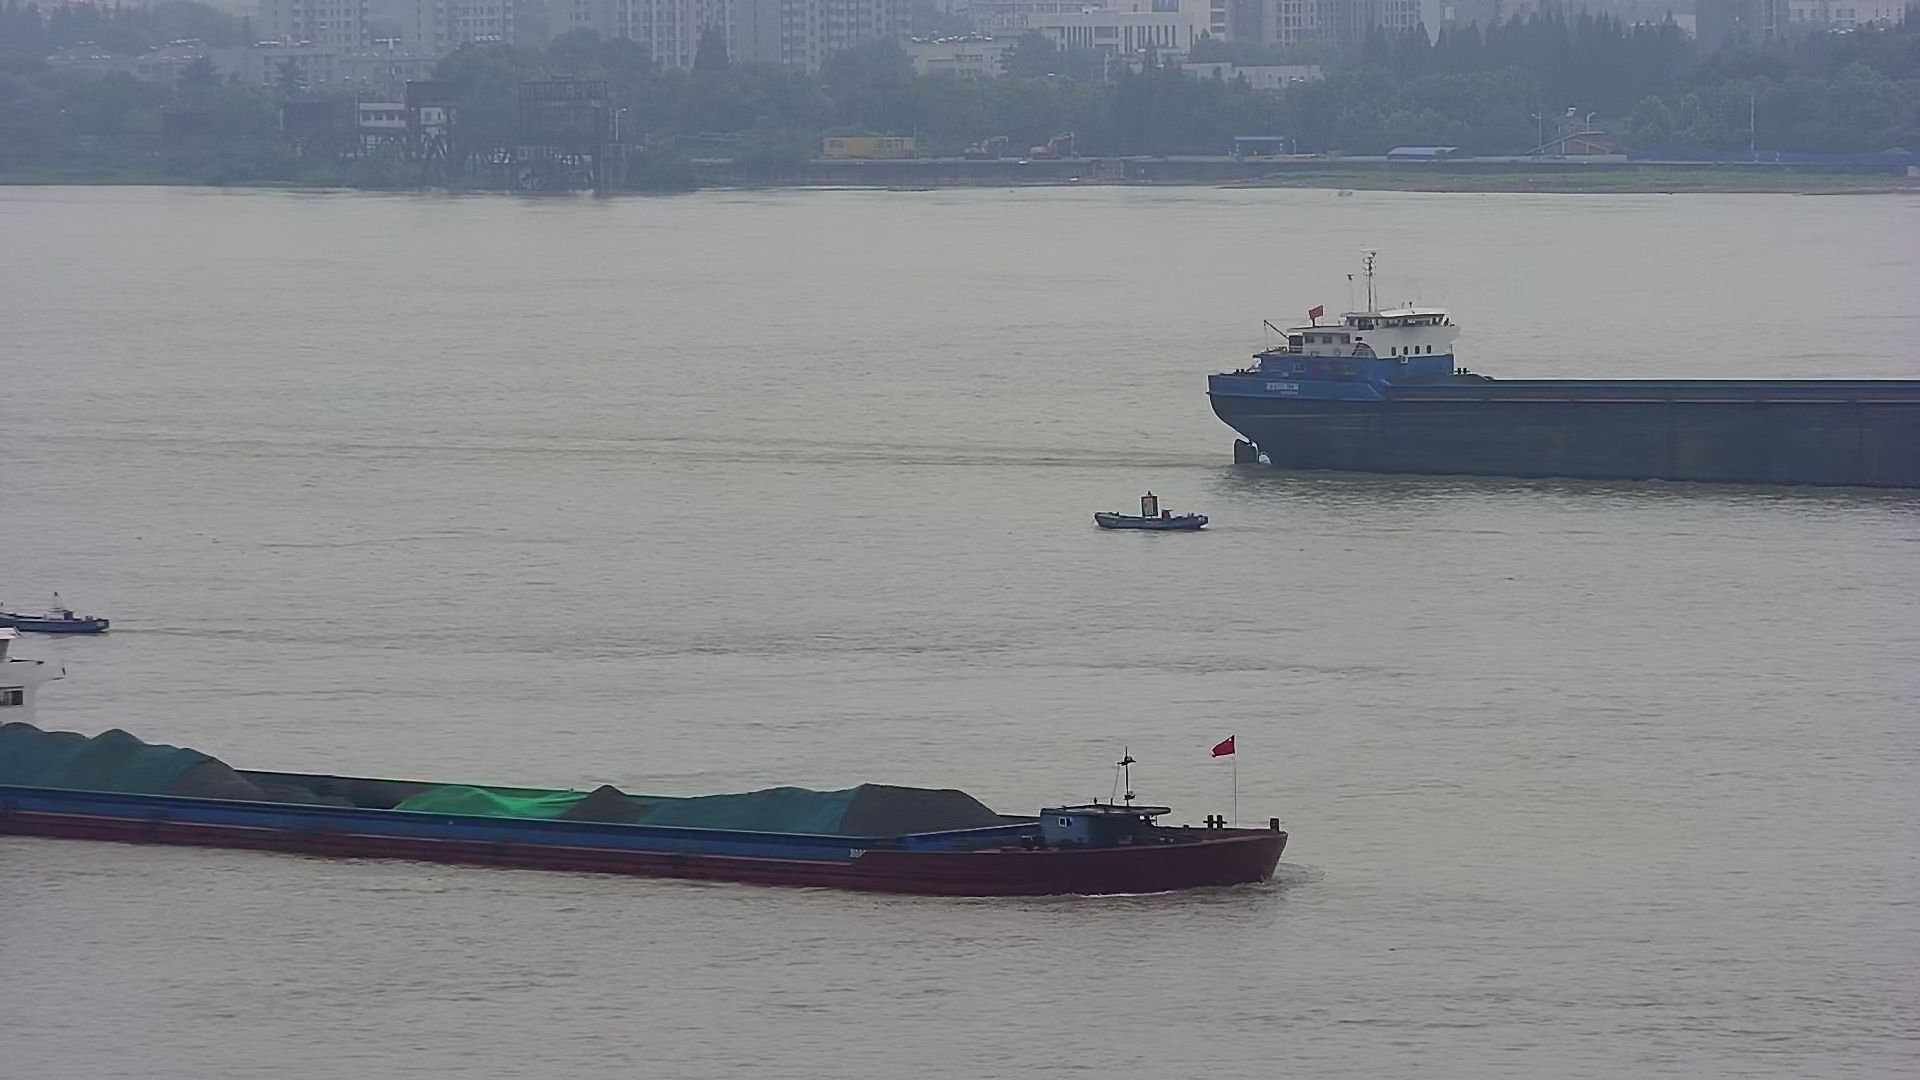boat: (1, 585, 117, 640), (1091, 492, 1218, 531)
ship: (1, 628, 1291, 894), (1204, 270, 1920, 496)
